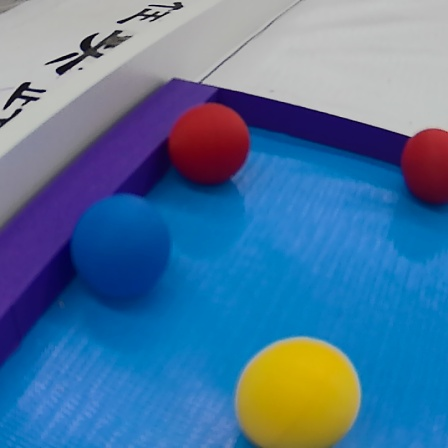blue: (68, 192, 174, 304)
blue_aim: (5, 70, 448, 448)
red: (164, 97, 251, 189), (396, 118, 448, 209)
yellow: (234, 337, 370, 448)
